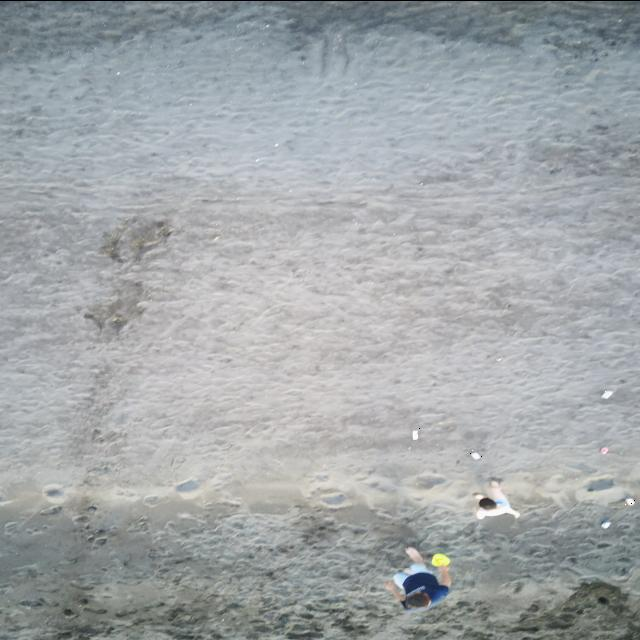Garbage: (433, 552, 448, 566), (600, 390, 612, 399), (624, 496, 633, 504), (602, 519, 611, 527), (471, 451, 479, 459), (412, 430, 417, 440), (600, 446, 607, 453)
